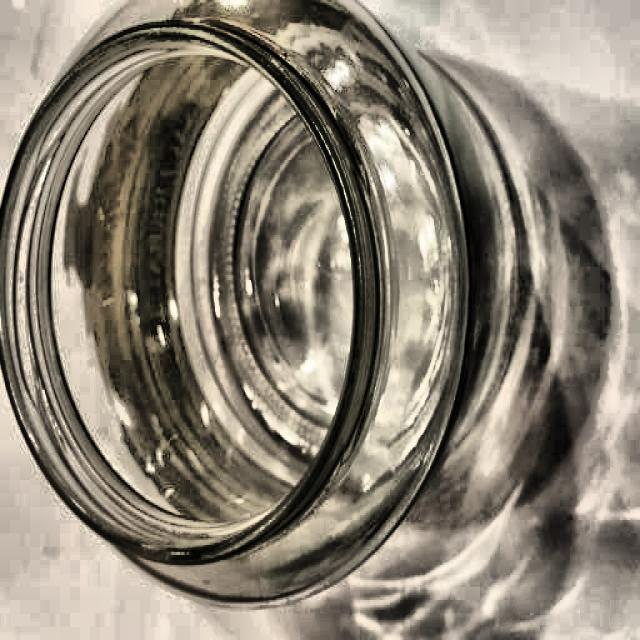glass: (0, 0, 468, 600)
